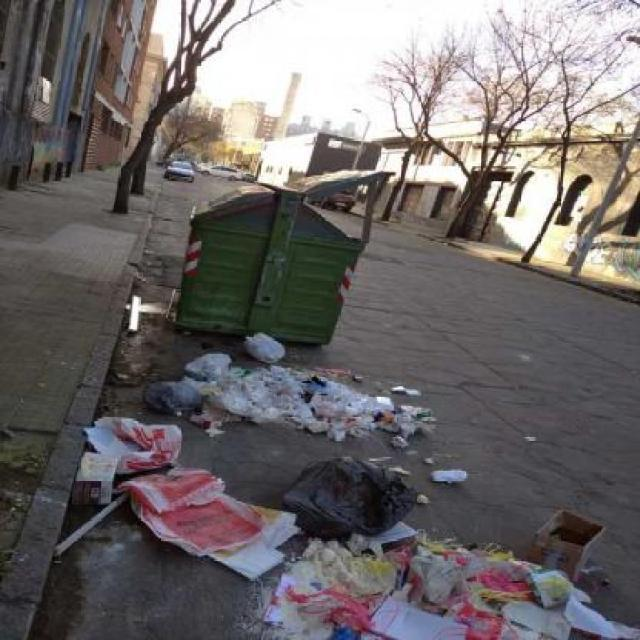garbage: (48, 326, 622, 640)
